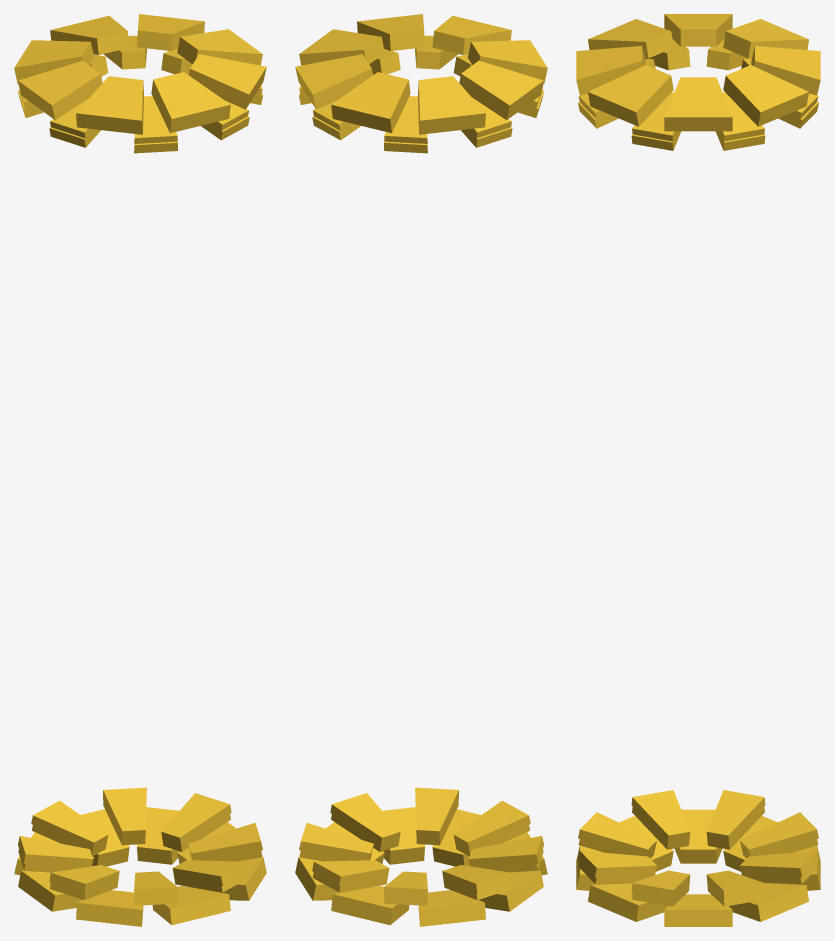
Rendered from rmuonendcapcsc.fbx.
The picture shows the model from 3 angles, left to right: view 1: azimuth 30°, elevation 25°; view 2: azimuth 150°, elevation 25°; view 3: azimuth 270°, elevation 25°; orthographic projection.
Parts seen in each view (by area): view 1: /tmp/importOpenSceneGraph674e5/RMuonEndcapCSC.wrl_Group_Grou (×27); view 2: /tmp/importOpenSceneGraph674e5/RMuonEndcapCSC.wrl_Group_Grou (×27); view 3: /tmp/importOpenSceneGraph674e5/RMuonEndcapCSC.wrl_Group_Grou (×28).
Boxes of the visible parts, box(x1,y1,x2,y2) form: /tmp/importOpenSceneGraph674e5/RMuonEndcapCSC.wrl_Group_Grou (×27): box(14, 14, 266, 926); /tmp/importOpenSceneGraph674e5/RMuonEndcapCSC.wrl_Group_Grou (×27): box(295, 14, 547, 926); /tmp/importOpenSceneGraph674e5/RMuonEndcapCSC.wrl_Group_Grou (×28): box(576, 14, 820, 926).
Size of the model in its own units: 4171 by 15713 by 4171.
